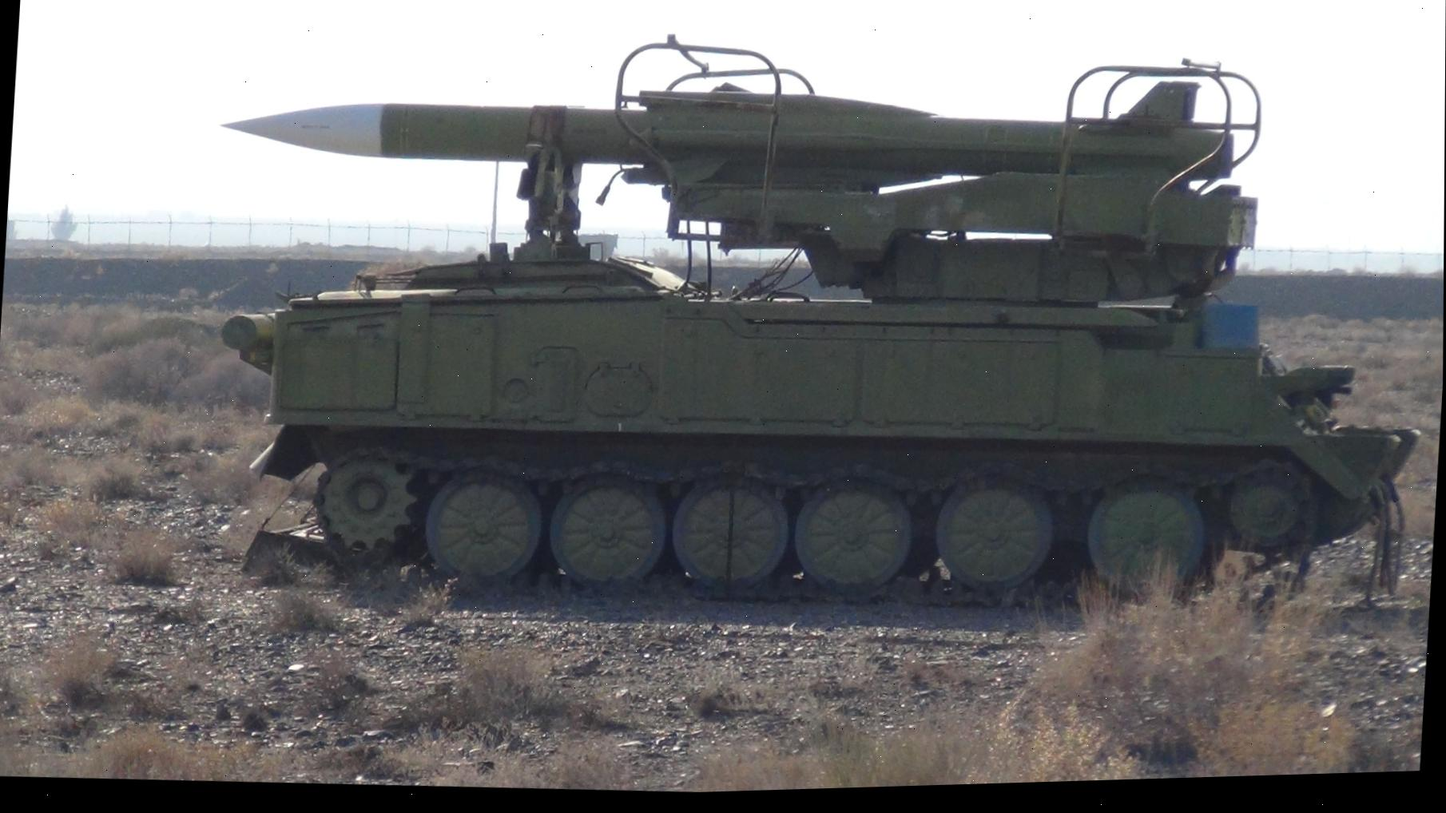armored_car: (170, 0, 1441, 661)
